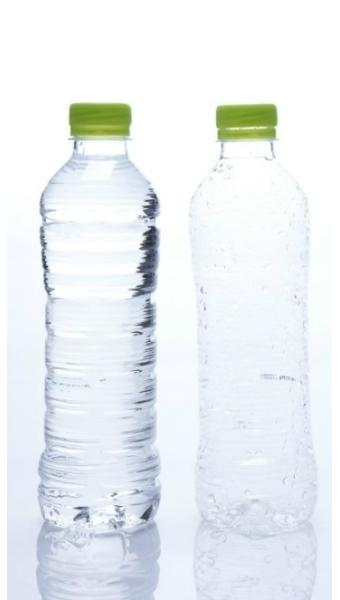bottle: (38, 102, 165, 535), (192, 103, 311, 541)
